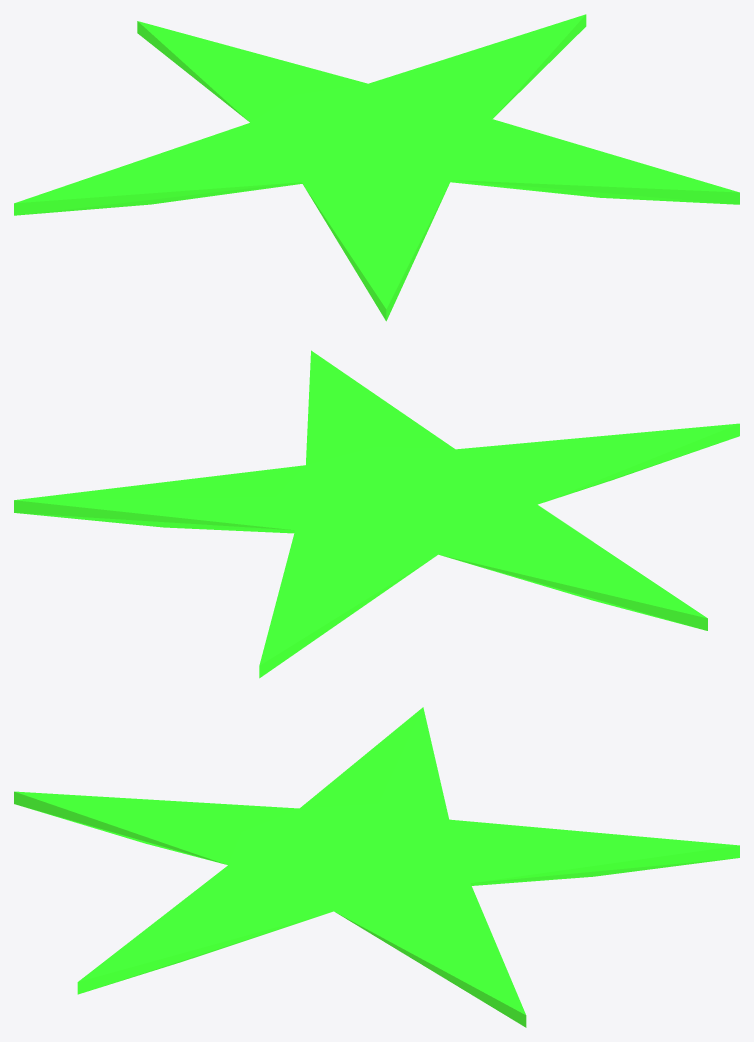
Rendered from star.fbx.
3 renders of one model, top to bottom at view 1: azimuth 30°, elevation 25°; view 2: azimuth 150°, elevation 25°; view 3: azimuth 270°, elevation 25°, orthographic. The views are drawn at different scales.
Visible parts, largest first — view 1: Sphere001; view 2: Sphere001; view 3: Sphere001.
Boxes of the visible parts, box(x1,y1,x2,y2) form: Sphere001: box(14, 14, 739, 321); Sphere001: box(14, 350, 739, 678); Sphere001: box(14, 707, 739, 1027).
Bounding box in the file's own units: 17.64 × 1.05 × 17.55.
